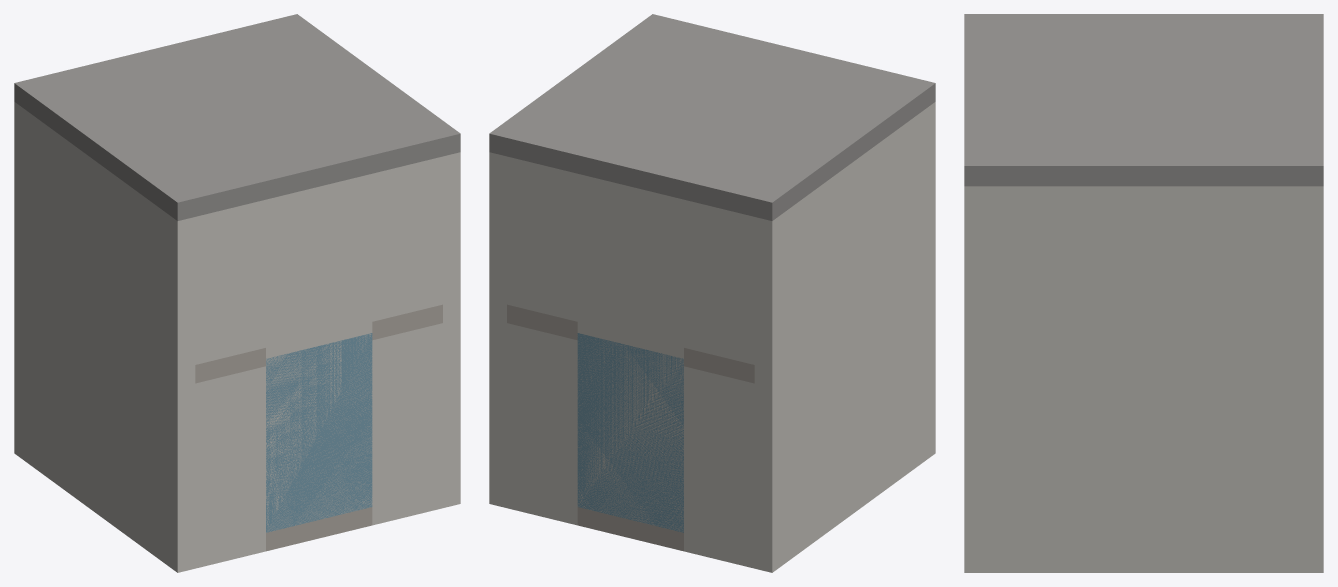
The model's file is canal.glb.
3 views of the same model, side by side, from view 1: azimuth 30°, elevation 25°; view 2: azimuth 150°, elevation 25°; view 3: azimuth 270°, elevation 25° (orthographic). The views are drawn at different scales.
Visible parts, largest first — view 1: ceiling_1, wall_1, plug_canal_south, wall_5, water_1, wall_3, wall_4, plug_canal_south.001, wall_8, wall_2, wall_6, floor_1 (+2 smaller); view 2: ceiling_1, wall_1, plug_canal_north, wall_5, water_1, wall_3, wall_4, plug_canal_north.001, wall_7, wall_2, wall_6, floor_1 (+2 smaller); view 3: wall_2, ceiling_1, wall_6.
Part boxes in pixels (<box>): ceiling_1: <box>14,14,460,220</box>; wall_1: <box>14,250,195,572</box>; plug_canal_south: <box>195,175,442,364</box>; wall_5: <box>14,102,195,369</box>; water_1: <box>266,333,372,532</box>; wall_3: <box>195,366,265,568</box>; wall_4: <box>372,323,442,525</box>; plug_canal_south.001: <box>266,322,372,532</box>; wall_8: <box>195,156,442,235</box>; wall_2: <box>443,300,460,507</box>; wall_6: <box>443,152,460,304</box>; floor_1: <box>266,507,372,551</box>; ceiling_1: <box>489,14,935,220</box>; wall_1: <box>754,250,935,572</box>; plug_canal_north: <box>507,175,754,364</box>; wall_5: <box>754,102,935,369</box>; water_1: <box>577,333,683,532</box>; wall_3: <box>684,366,754,568</box>; wall_4: <box>507,323,577,525</box>; plug_canal_north.001: <box>577,322,683,531</box>; wall_7: <box>507,156,754,235</box>; wall_2: <box>489,300,506,507</box>; wall_6: <box>489,152,506,304</box>; floor_1: <box>577,507,683,551</box>; wall_2: <box>964,349,1323,572</box>; ceiling_1: <box>964,14,1323,186</box>; wall_6: <box>964,186,1323,348</box>.
Size of the model in its own units: 8 by 10 by 8.
